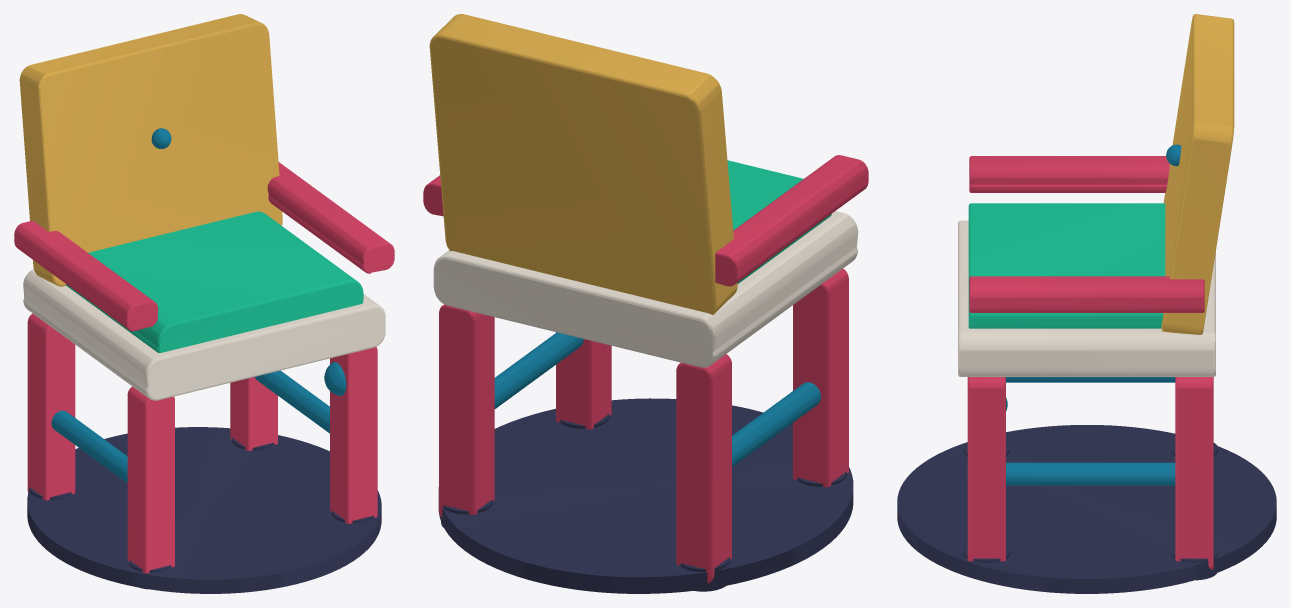
Rendered from 1345_城市运转图鉴_厢式变压器.glb.
3 renders of one model, left to right at view 1: azimuth 30°, elevation 25°; view 2: azimuth 150°, elevation 25°; view 3: azimuth 270°, elevation 25°, orthographic. The views are drawn at different scales.
Parts seen in each view (by area): view 1: card_1345; view 2: card_1345; view 3: card_1345.
Part boxes in pixels (x1,y1,x2,y2): card_1345: [14, 14, 394, 593]; card_1345: [423, 14, 868, 593]; card_1345: [897, 14, 1276, 593].
Bounding box in the file's own units: 0.7329 × 1 × 0.762.
